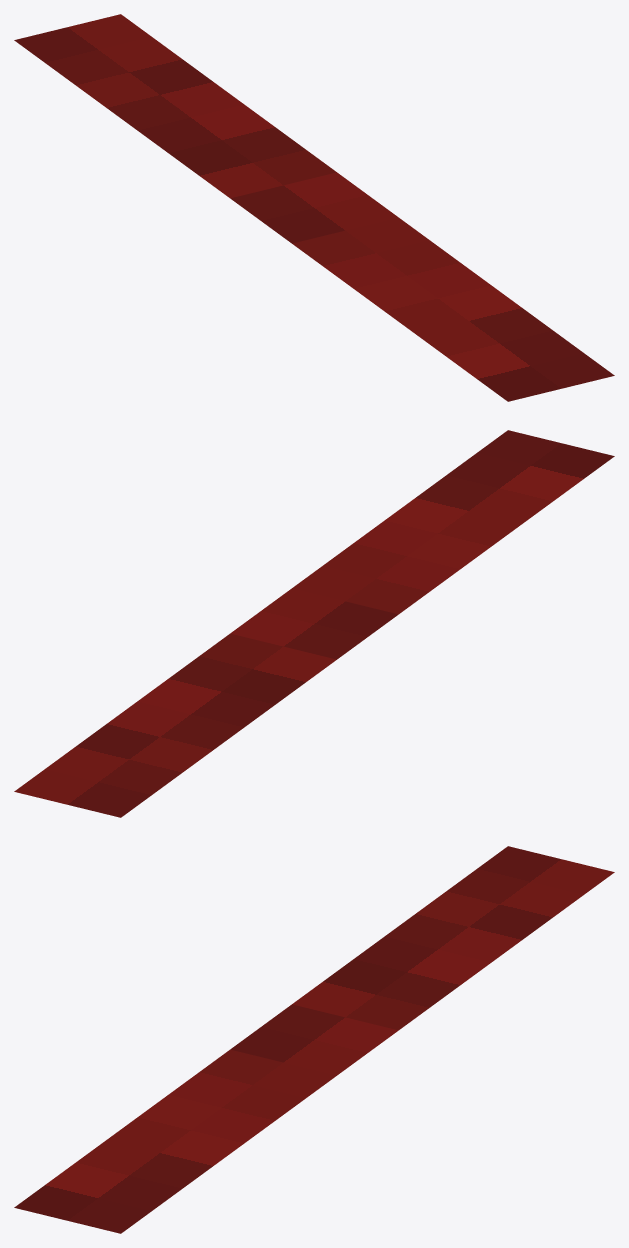
File: dust_0011.gltf
3 views of the same model, one above another, from view 1: azimuth 30°, elevation 25°; view 2: azimuth 150°, elevation 25°; view 3: azimuth 330°, elevation 25° (orthographic).
Visible parts, largest first — view 1: dust_0011; view 2: dust_0011; view 3: dust_0011.
Part boxes in pixels (box(x1,y1,x2,y2)): dust_0011: box(14, 14, 614, 401); dust_0011: box(14, 430, 614, 817); dust_0011: box(14, 846, 614, 1233).
Bounding box in the file's own units: 0.125 × 0 × 1.
1 material, 1 textured.
